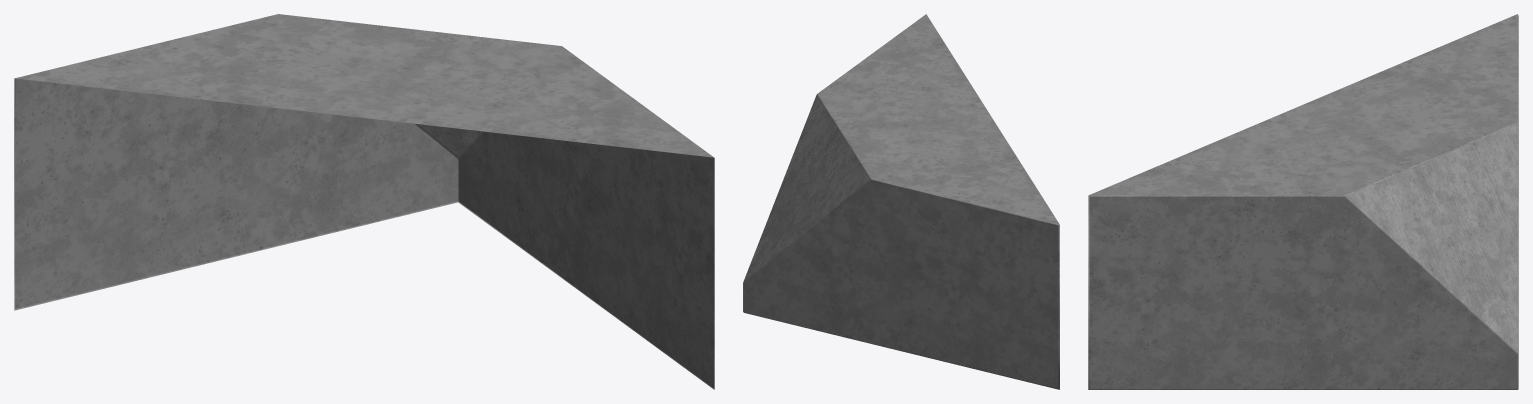
File: SM_Wall_25.fbx
The picture shows the model from 3 angles, left to right: view 1: azimuth 30°, elevation 25°; view 2: azimuth 150°, elevation 25°; view 3: azimuth 270°, elevation 25°; orthographic projection. The views are drawn at different scales.
Visible parts, largest first — view 1: SM_Wall_26; view 2: SM_Wall_26; view 3: SM_Wall_26.
Part boxes in pixels (x1,y1,x2,y2): SM_Wall_26: (14,14,714,389); SM_Wall_26: (743,14,1059,389); SM_Wall_26: (1088,14,1518,389).
Bounding box in the file's own units: 401 × 200 × 401.
